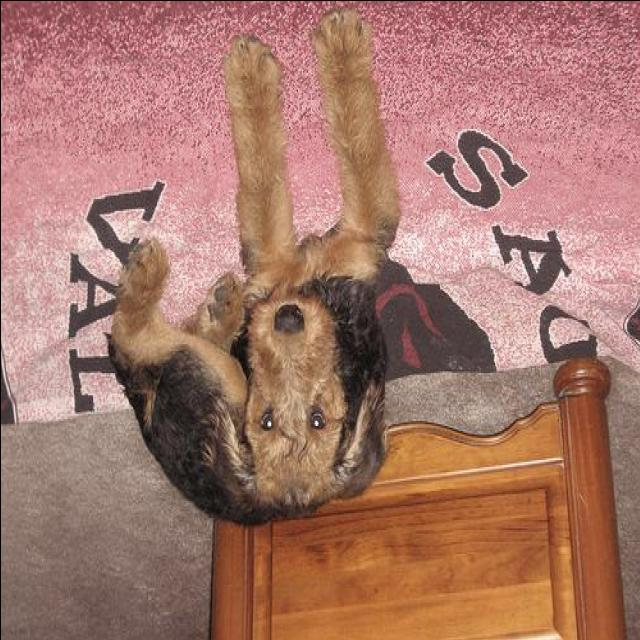airedale: (104, 7, 404, 531)
